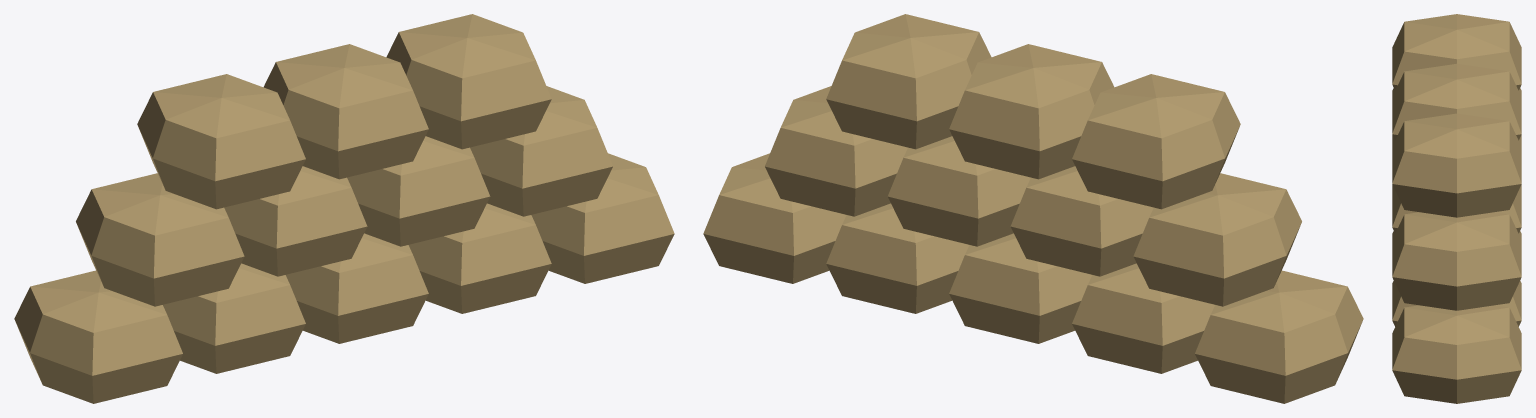
The model's file is s-sandbags.glb.
The picture shows the model from 3 angles, left to right: view 1: azimuth 30°, elevation 25°; view 2: azimuth 150°, elevation 25°; view 3: azimuth 270°, elevation 25°; orthographic projection. The views are drawn at different scales.
Parts seen in each view (by area): view 1: p; view 2: p; view 3: p.
Part boxes in pixels (bbox=[...]): p: bbox=[14, 14, 674, 403]; p: bbox=[703, 14, 1363, 403]; p: bbox=[1392, 14, 1521, 403].
Size of the model in its own units: 2.56 by 0.98 by 0.5504.
